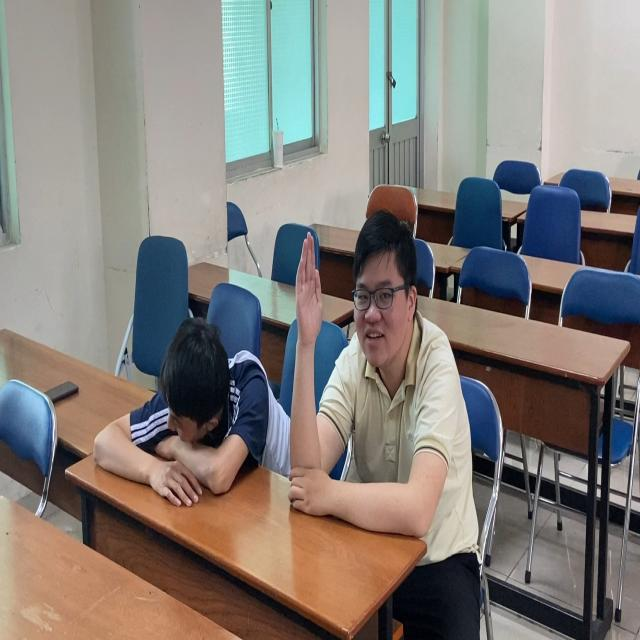raise_hand: (291, 206, 465, 533)
sleep: (93, 310, 277, 519)
